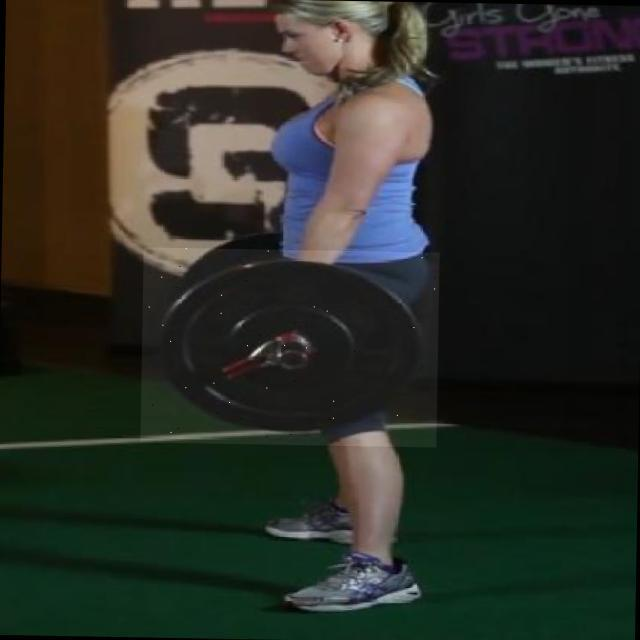barbell: (141, 248, 440, 448)
